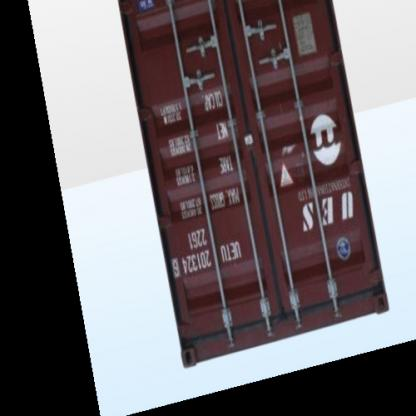Damage: (174, 318, 240, 352), (282, 154, 324, 194)
